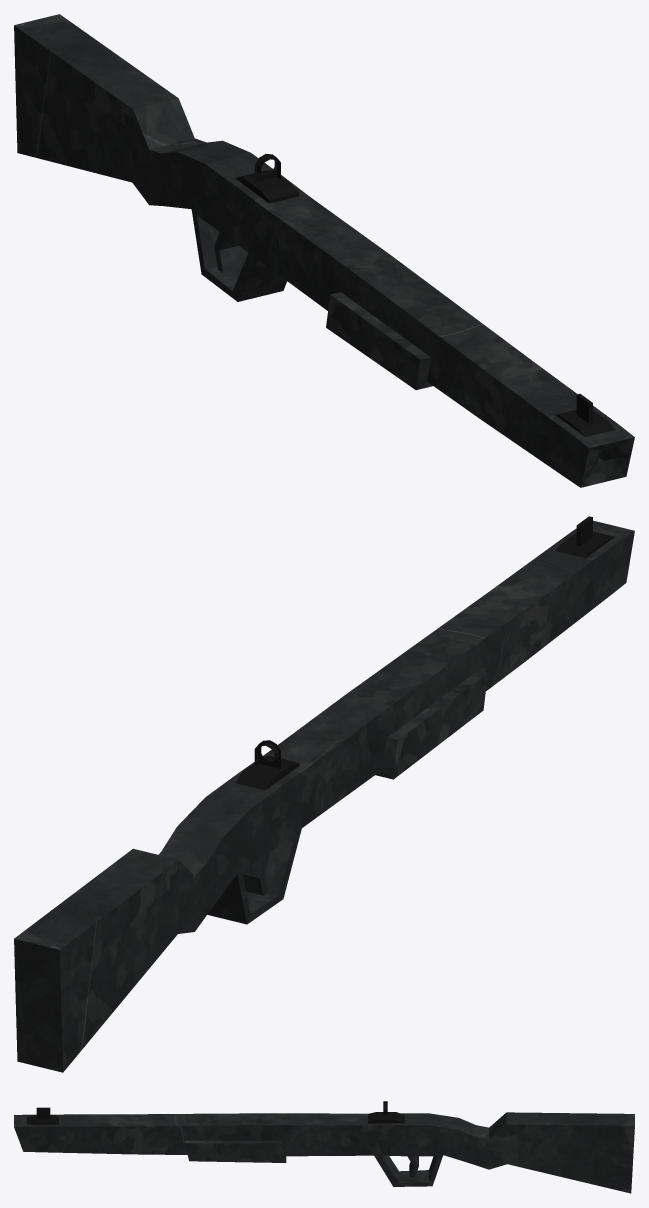
The model's file is Shotgun.obj.
3 renders of one model, top to bottom at view 1: azimuth 30°, elevation 25°; view 2: azimuth 150°, elevation 25°; view 3: azimuth 270°, elevation 25°, orthographic. The views are drawn at different scales.
Parts seen in each view (by area): view 1: Pistol_Cube, Cube_Cube.001, Cube.001_Cube.002; view 2: Pistol_Cube, Cube_Cube.001, Cube.001_Cube.002; view 3: Pistol_Cube, Cube_Cube.001, Cube.001_Cube.002, Cube.002_Cube.003.
Part boxes in pixels (bbox=[...]): Pistol_Cube: bbox=[14, 14, 634, 487]; Cube_Cube.001: bbox=[235, 170, 299, 203]; Cube.001_Cube.002: bbox=[556, 410, 615, 436]; Pistol_Cube: bbox=[14, 520, 634, 1072]; Cube_Cube.001: bbox=[235, 755, 299, 790]; Cube.001_Cube.002: bbox=[555, 531, 615, 558]; Pistol_Cube: bbox=[14, 1112, 634, 1193]; Cube_Cube.001: bbox=[368, 1112, 404, 1123]; Cube.001_Cube.002: bbox=[26, 1115, 58, 1124]; Cube.002_Cube.003: bbox=[36, 1107, 50, 1119].
Size of the model in its own units: 0.1435 by 0.3223 by 2.12.
2 materials, 1 textured.
